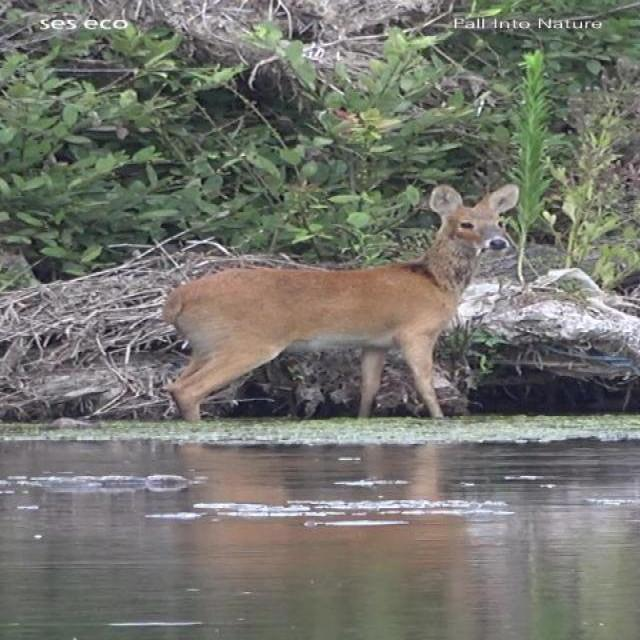deer: (162, 182, 526, 421)
